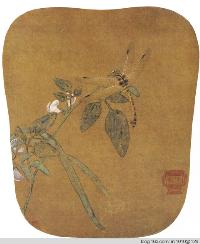butterfly: (88, 55, 171, 126)
tree: (22, 113, 115, 230)
